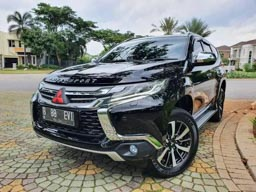plat: (41, 107, 73, 121)
